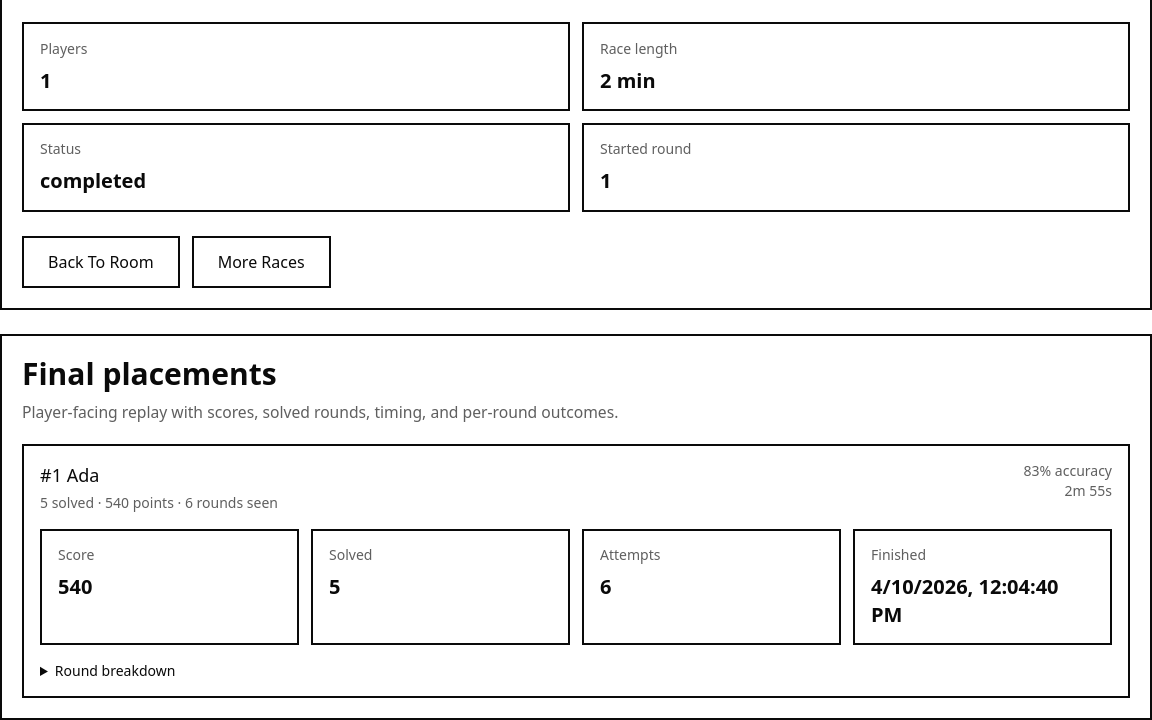
Test: MultiplayerResultsClient › renders final placements and per-round replay data
(page scrolled)
Expected: the heading "Final placements" is shown, [22,353,277,394]
Expected: the text "#1 Ada" is shown, [40,463,99,487]
Step 1. Click the heading "Round breakdown" → (115, 671), box [55,661,175,680]
(page scrolled)
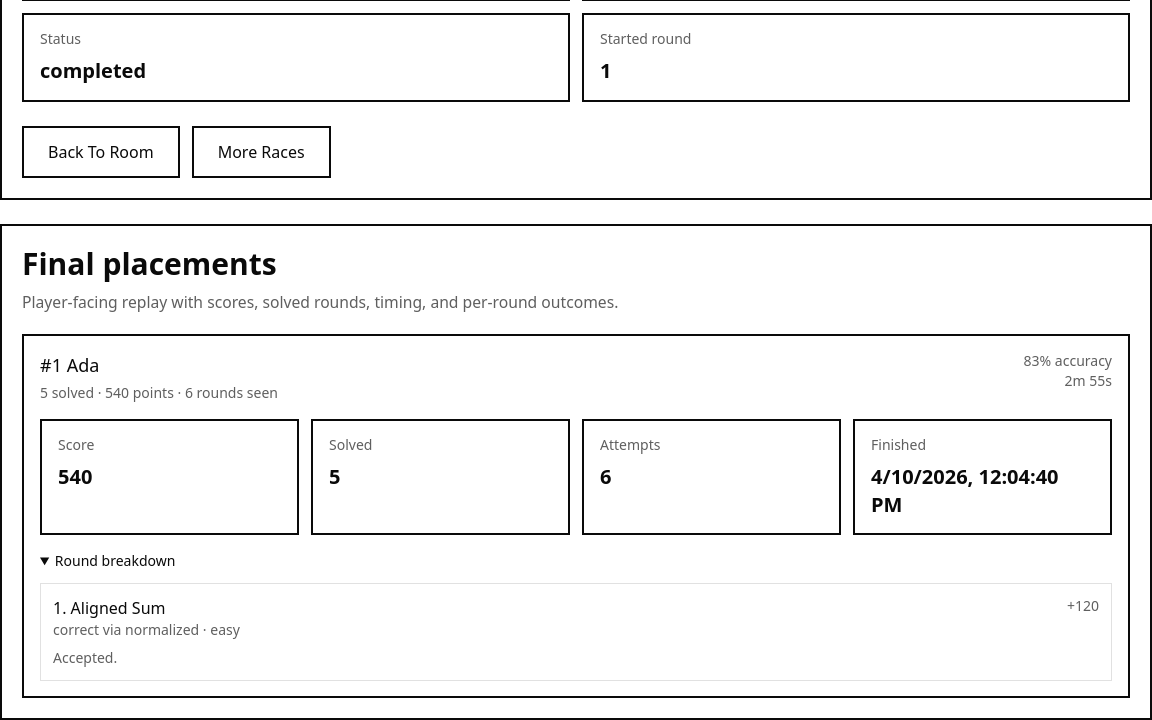
Expected: the text "1. Aligned Sum" is shown, [53,597,166,619]
Expected: the text "Accepted." is shown, [53,648,117,667]
